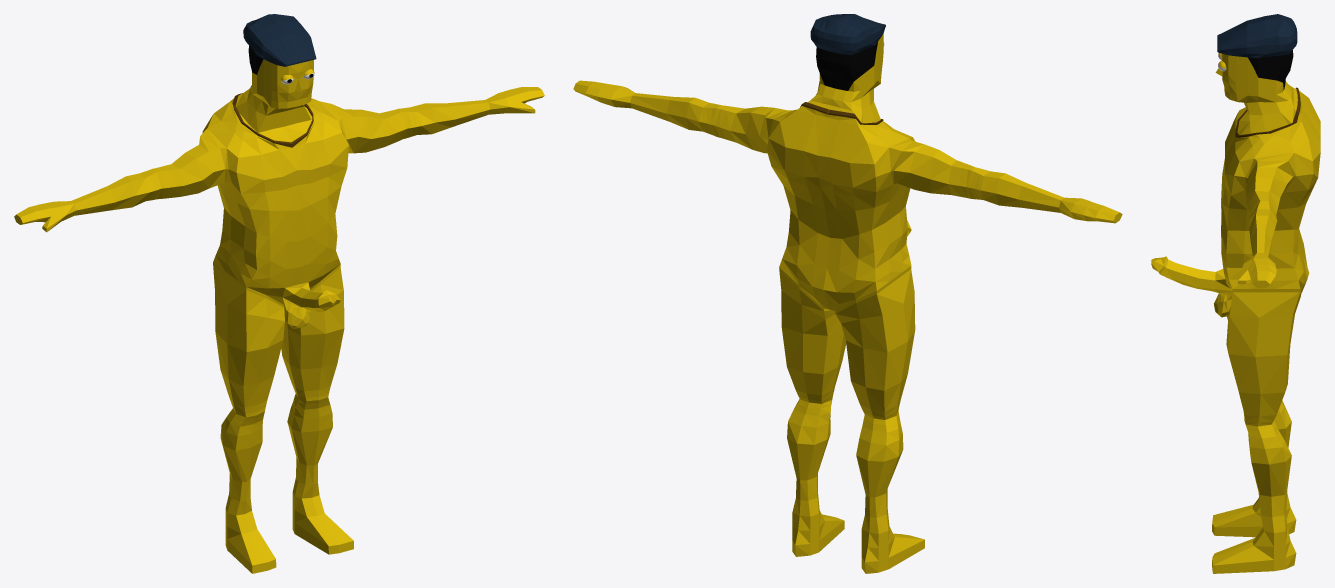
The model's file is Rogerio nu.fbx.
The picture shows the model from 3 angles, left to right: view 1: azimuth 30°, elevation 25°; view 2: azimuth 150°, elevation 25°; view 3: azimuth 270°, elevation 25°; orthographic projection. The views are drawn at different scales.
Visible parts, largest first — view 1: Rogerio Nu; view 2: Rogerio Nu; view 3: Rogerio Nu.
Boxes of the visible parts, x1,y1,x2,y2 form: Rogerio Nu: (14,14,544,573); Rogerio Nu: (573,14,1122,573); Rogerio Nu: (1151,14,1320,573).
Bounding box in the file's own units: 1.8 × 1.72 × 0.4995.
